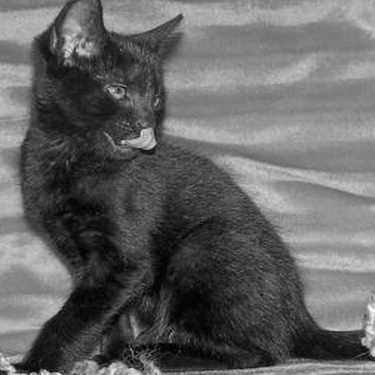cat: (12, 6, 369, 367)
